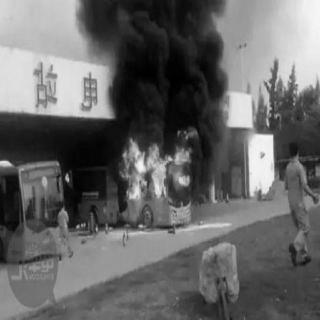Fire: (120, 126, 200, 200)
Smoke: (105, 1, 227, 115)
